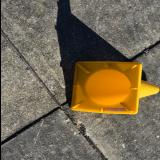cone: (70, 61, 160, 114)
